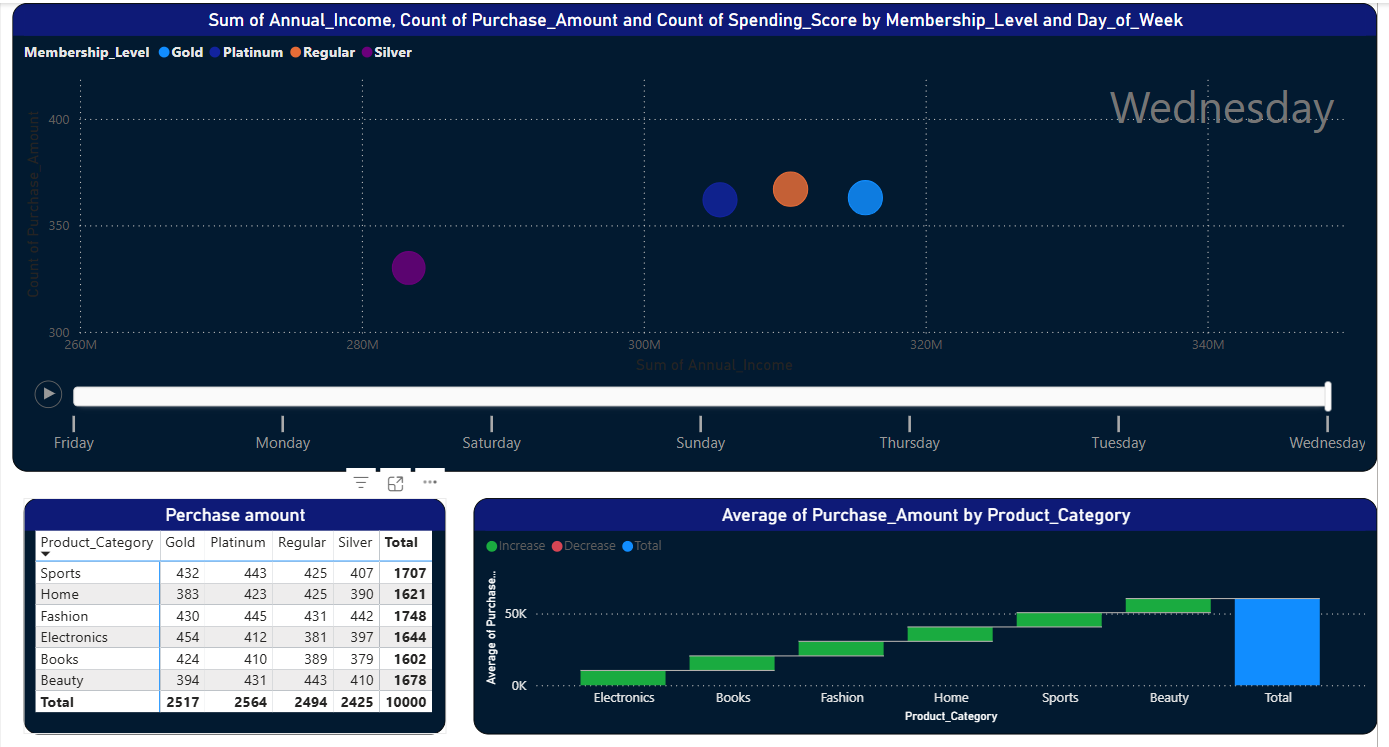

The page's visual inventory and layout, read from the dashboard file:
{"tool":"powerbi","page":{"name":"Page 3","canvas":[1280,720],"ordinal":2},"visuals":[{"type":"scatterChart","fields":{"X":["Sum(ecommerce_db user_behavior.Annual_Income)"],"Y":["CountNonNull(ecommerce_db user_behavior.Purchase_Amount)"],"Series":["ecommerce_db user_behavior.Membership_Level"],"Size":["CountNonNull(ecommerce_db user_behavior.Spending_Score)"],"Play":["ecommerce_db user_behavior.Day_of_Week"]},"box":[10.5,0,1269.8,436],"z":0},{"type":"pivotTable","title":"Perchase amount","fields":{"Rows":["ecommerce_db user_behavior.Product_Category"],"Columns":["ecommerce_db user_behavior.Membership_Level"],"Values":["CountNonNull(ecommerce_db user_behavior.Purchase_Amount)"]},"box":[20.9,460.5,393,219.8],"z":1000},{"type":"waterfallChart","fields":{"Y":["Avg(ecommerce_db user_behavior.Purchase_Amount)"],"Category":["ecommerce_db user_behavior.Product_Category"]},"box":[439.5,460.5,840.7,219.8],"z":1001}]}

Visuals, with their boxes on the page's 1280x720 design canvas (x1, y1, x2, y2). These are canvas units, not pixel positions in the 1389x747 screenshot, which may show the page scaled, cropped or inside an application window:
scatterChart - Sum(ecommerce_db user_behavior.Annual_Income) x CountNonNull(ecommerce_db user_behavior.Purchase_Amount): <region>10, 0, 1280, 436</region>
"Perchase amount" pivotTable: <region>21, 460, 414, 680</region>
waterfallChart - Avg(ecommerce_db user_behavior.Purchase_Amount) x ecommerce_db user_behavior.Product_Category: <region>440, 460, 1280, 680</region>
